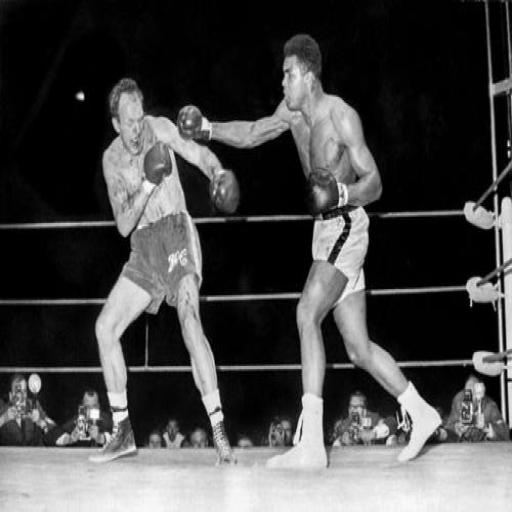boxing: (176, 32, 445, 469), (88, 75, 240, 466)
